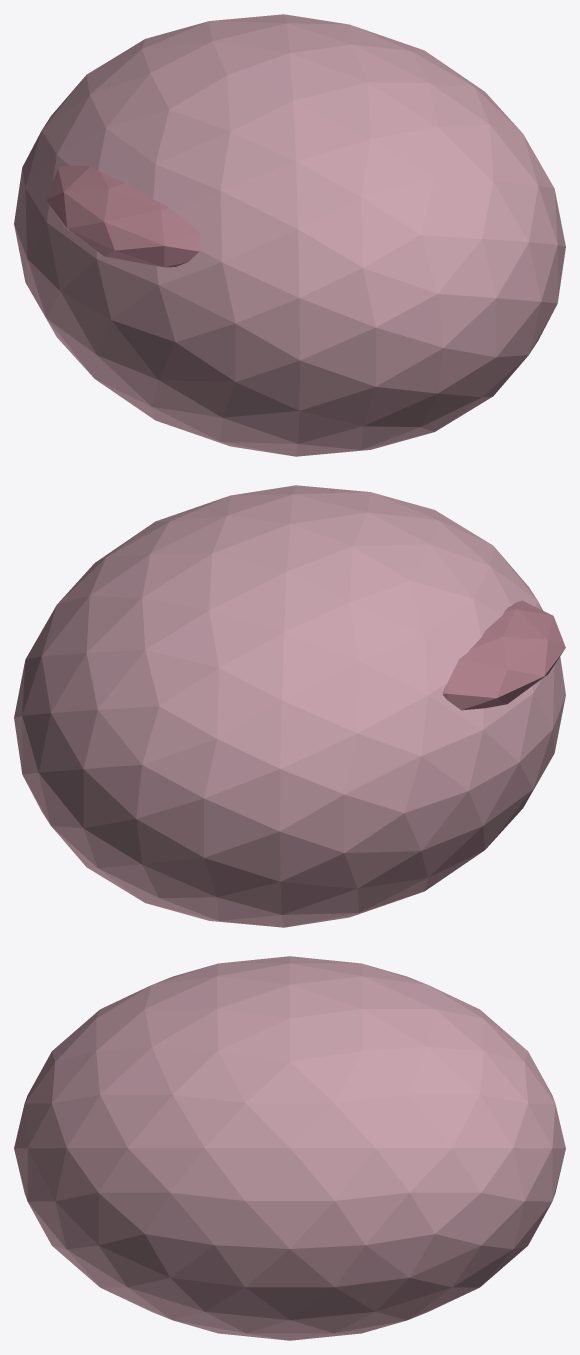
The model's file is pregnancy-t2-medium.glb.
3 renders of one model, top to bottom at view 1: azimuth 30°, elevation 25°; view 2: azimuth 150°, elevation 25°; view 3: azimuth 270°, elevation 25°, orthographic. The views are drawn at different scales.
Parts seen in each view (by area): view 1: uterus, placenta; view 2: uterus, placenta; view 3: uterus.
Boxes of the visible parts, x1,y1,x2,y2 form: uterus: [14, 14, 565, 456]; placenta: [46, 165, 199, 267]; uterus: [14, 485, 565, 927]; placenta: [442, 600, 565, 710]; uterus: [14, 956, 565, 1340].
Size of the model in its own units: 2.55 by 1.9 by 2.9.
